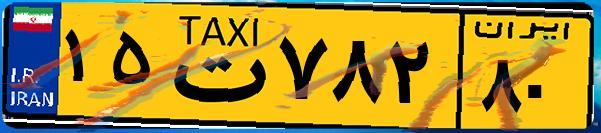0: (525, 38, 570, 115)
1: (57, 26, 110, 100)
2: (385, 28, 445, 110)
5: (110, 28, 158, 98)
7: (270, 28, 330, 110)
8: (330, 28, 385, 110), (475, 38, 525, 113)
ت: (158, 12, 270, 120)
